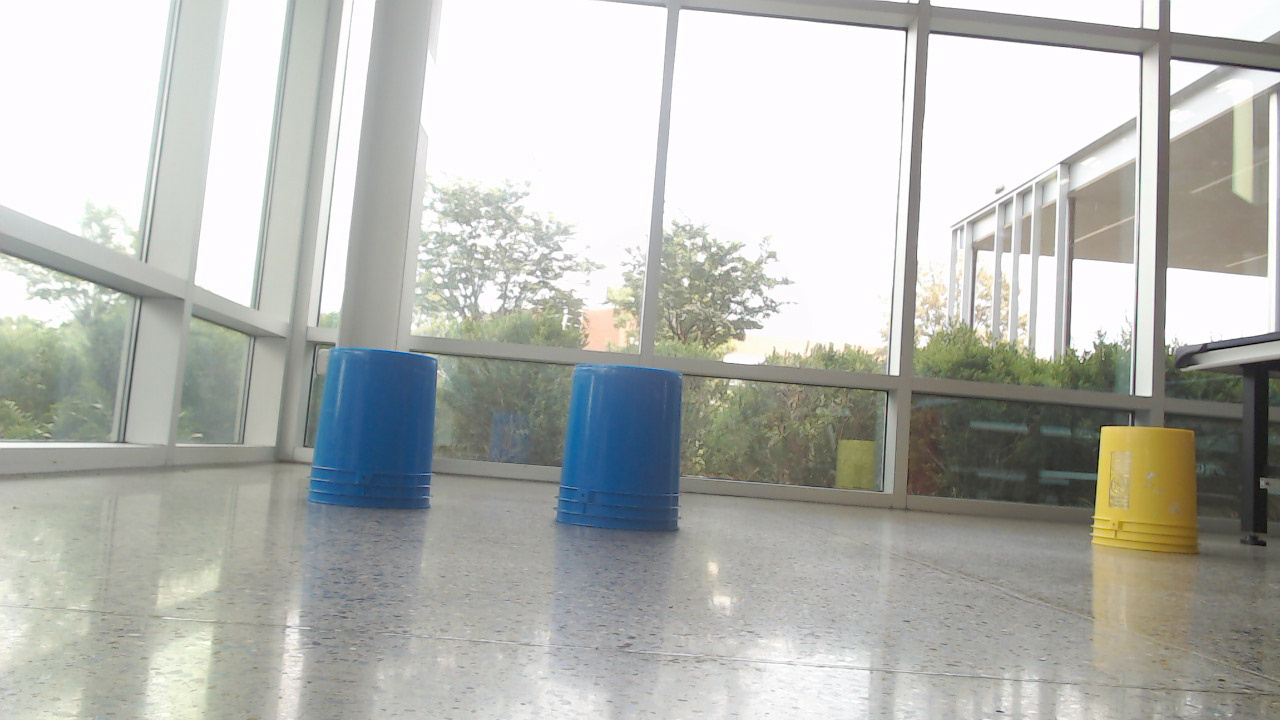blue_bucket: (556, 365, 702, 541), (305, 347, 446, 522)
yellow_bucket: (1091, 430, 1209, 565)
